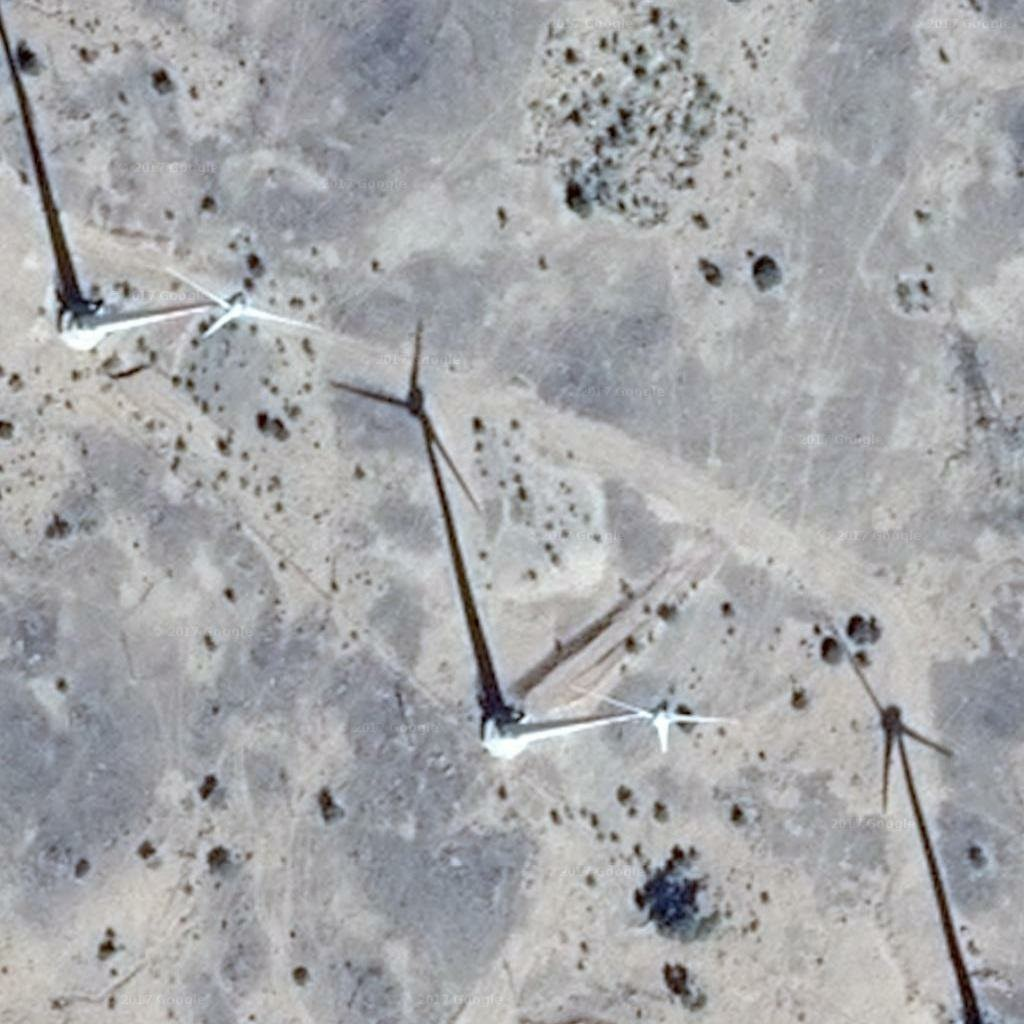Windmill: (314, 339, 526, 713)
